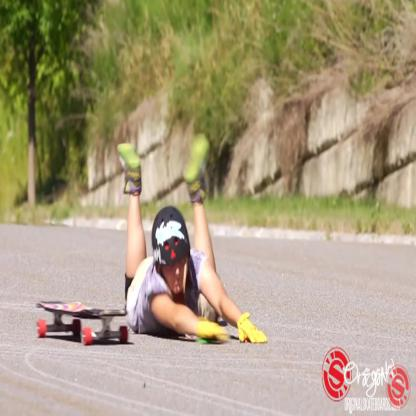Fall_Down: (116, 131, 270, 347)
